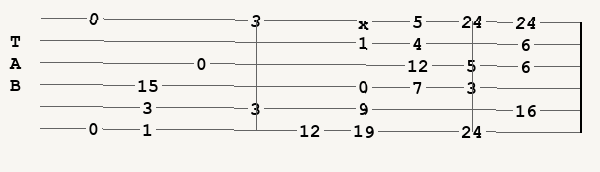0: (88, 12, 103, 28), (88, 122, 103, 138), (196, 56, 211, 72), (358, 78, 373, 94)
1: (142, 122, 157, 138), (358, 34, 373, 50)
12: (299, 122, 325, 138), (407, 56, 433, 72)
15: (137, 78, 163, 94)
16: (515, 100, 541, 116)
19: (353, 122, 379, 138)
24: (461, 122, 487, 138), (461, 12, 487, 28), (515, 12, 541, 28)
3: (142, 100, 157, 116), (250, 12, 265, 28), (250, 100, 265, 116), (466, 78, 481, 94)
4: (412, 34, 427, 50)
5: (412, 12, 427, 28), (466, 56, 481, 72)
6: (520, 34, 535, 50), (520, 56, 535, 72)
7: (412, 78, 427, 94)
9: (358, 100, 373, 116)
x: (358, 14, 373, 26)
